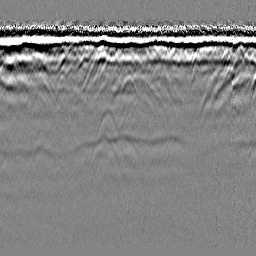cavity: (121, 73, 138, 95)
